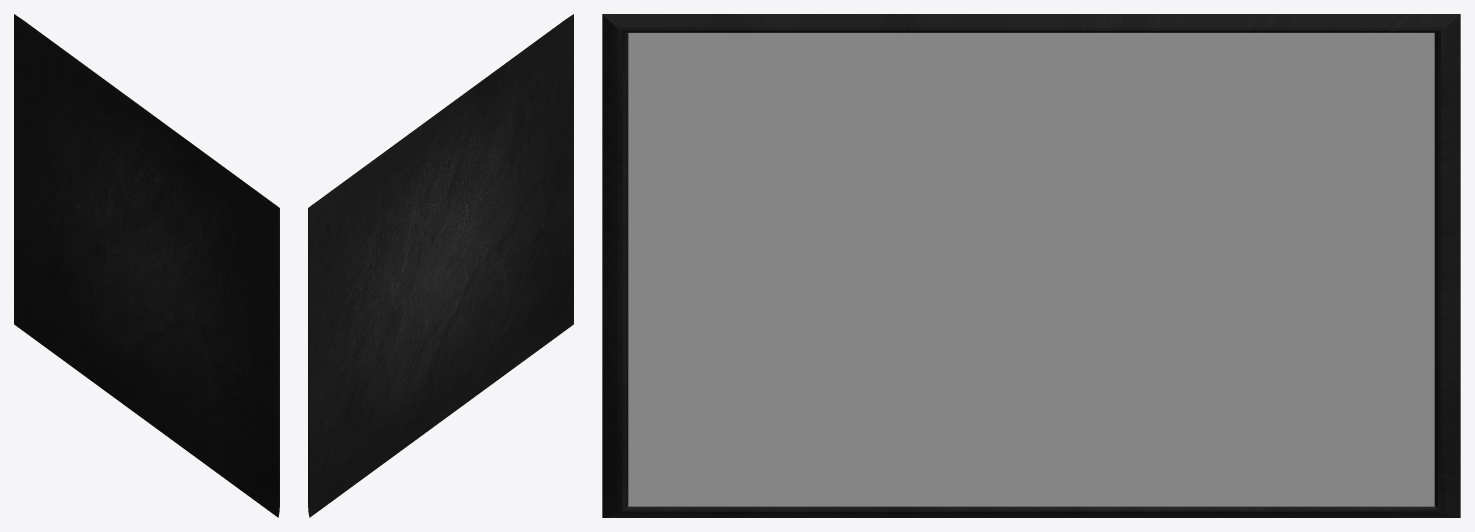
Rendered from vanGogh.obj.
The picture shows the model from 3 angles, left to right: view 1: azimuth 30°, elevation 25°; view 2: azimuth 150°, elevation 25°; view 3: azimuth 270°, elevation 25°; orthographic projection. The views are drawn at different scales.
Parts seen in each view (by area): view 1: Plane; view 2: Plane; view 3: Plane.
Part boxes in pixels (x1,y1,x2,y2): Plane: (14,14,279,517); Plane: (308,14,573,517); Plane: (602,14,1460,517).
Size of the model in its own units: 0.0208 by 0.9542 by 1.47.
